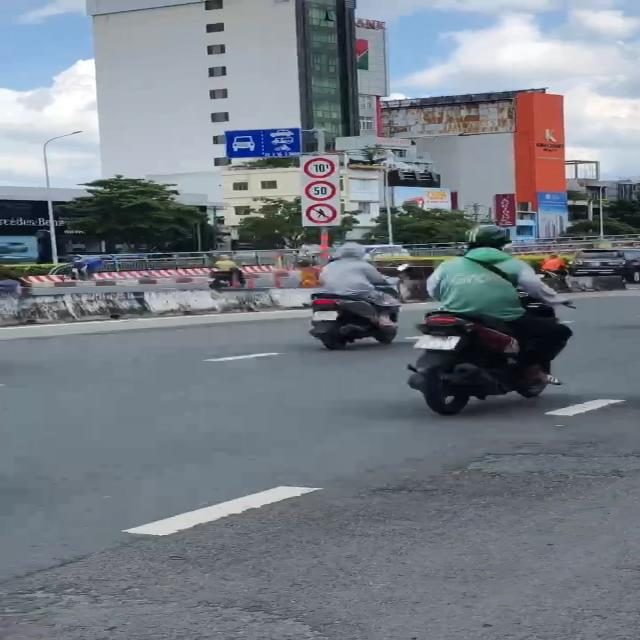Bien bao cam nguoi di bo: (302, 201, 340, 224)
Bien bao toc do toi da cho phep: (302, 179, 338, 201)
